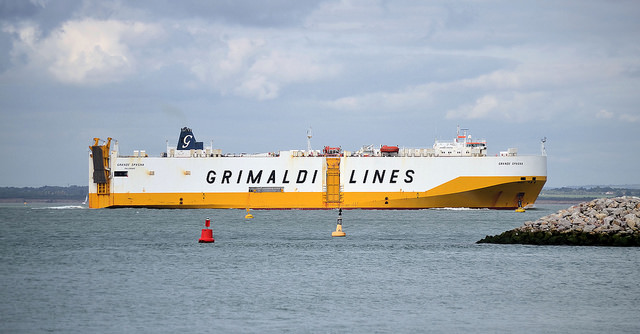PCC: (86, 124, 550, 213)
